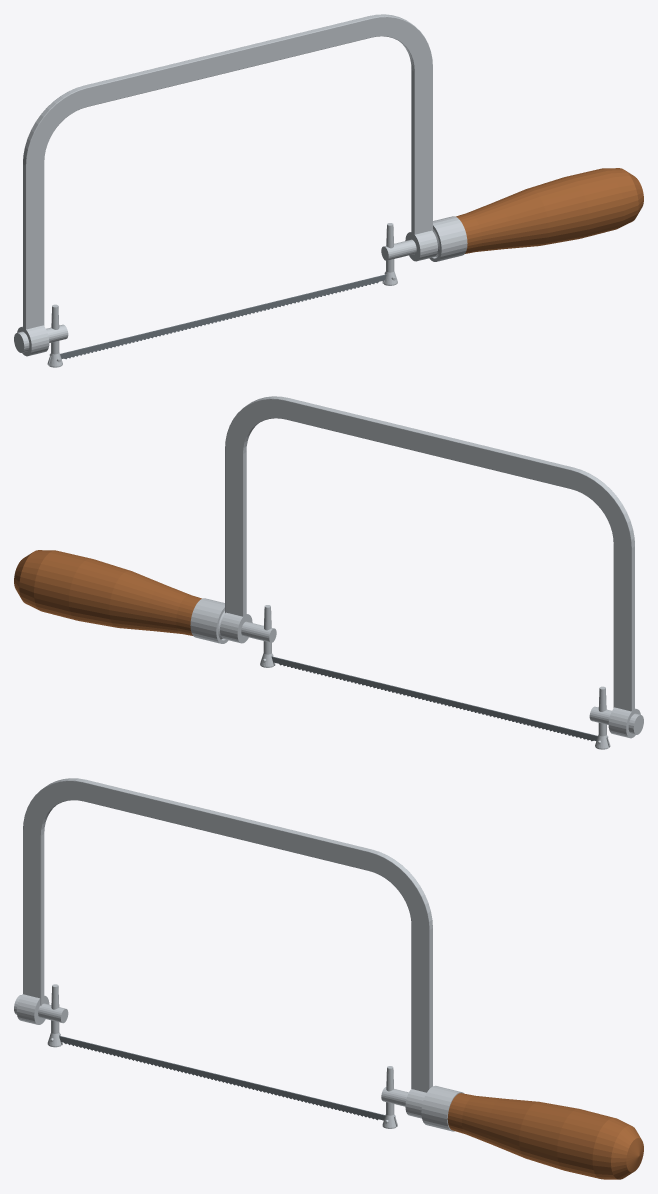
3 views of the same model, one above another, from view 1: azimuth 30°, elevation 25°; view 2: azimuth 150°, elevation 25°; view 3: azimuth 330°, elevation 25° (orthographic).
Visible parts, largest first — view 1: Flat_steel_U_frame, Turned_wood_handle_unbranded, Taut_fine_tooth_blade, Handle_metal_ferrule, Right_rolled_frame_eye, Left_rolled_frame_eye, Right_tensioning_blade_holder_axle; view 2: Flat_steel_U_frame, Turned_wood_handle_unbranded, Taut_fine_tooth_blade, Handle_metal_ferrule, Right_rolled_frame_eye, Left_rolled_frame_eye, Right_tensioning_blade_holder_axle; view 3: Flat_steel_U_frame, Turned_wood_handle_unbranded, Taut_fine_tooth_blade, Handle_metal_ferrule, Left_rolled_frame_eye.
Part boxes in pixels (bbox=[...]): Flat_steel_U_frame: bbox=[23, 14, 432, 329]; Turned_wood_handle_unbranded: bbox=[456, 168, 643, 253]; Taut_fine_tooth_blade: bbox=[60, 274, 386, 359]; Handle_metal_ferrule: bbox=[429, 216, 467, 261]; Right_rolled_frame_eye: bbox=[405, 230, 437, 261]; Left_rolled_frame_eye: bbox=[17, 325, 49, 356]; Right_tensioning_blade_holder_axle: bbox=[381, 239, 416, 260]; Flat_steel_U_frame: bbox=[225, 396, 634, 711]; Turned_wood_handle_unbranded: bbox=[14, 550, 201, 635]; Taut_fine_tooth_blade: bbox=[271, 656, 597, 741]; Handle_metal_ferrule: bbox=[190, 598, 228, 643]; Right_rolled_frame_eye: bbox=[220, 612, 252, 643]; Left_rolled_frame_eye: bbox=[608, 707, 640, 738]; Right_tensioning_blade_holder_axle: bbox=[241, 621, 276, 642]; Flat_steel_U_frame: bbox=[23, 778, 432, 1092]; Turned_wood_handle_unbranded: bbox=[447, 1093, 643, 1179]; Taut_fine_tooth_blade: bbox=[59, 1035, 385, 1120]; Handle_metal_ferrule: bbox=[421, 1085, 463, 1131]; Left_rolled_frame_eye: bbox=[16, 994, 49, 1024].
Bounding box in the file's own units: 0.3 × 0.125 × 0.0268.
